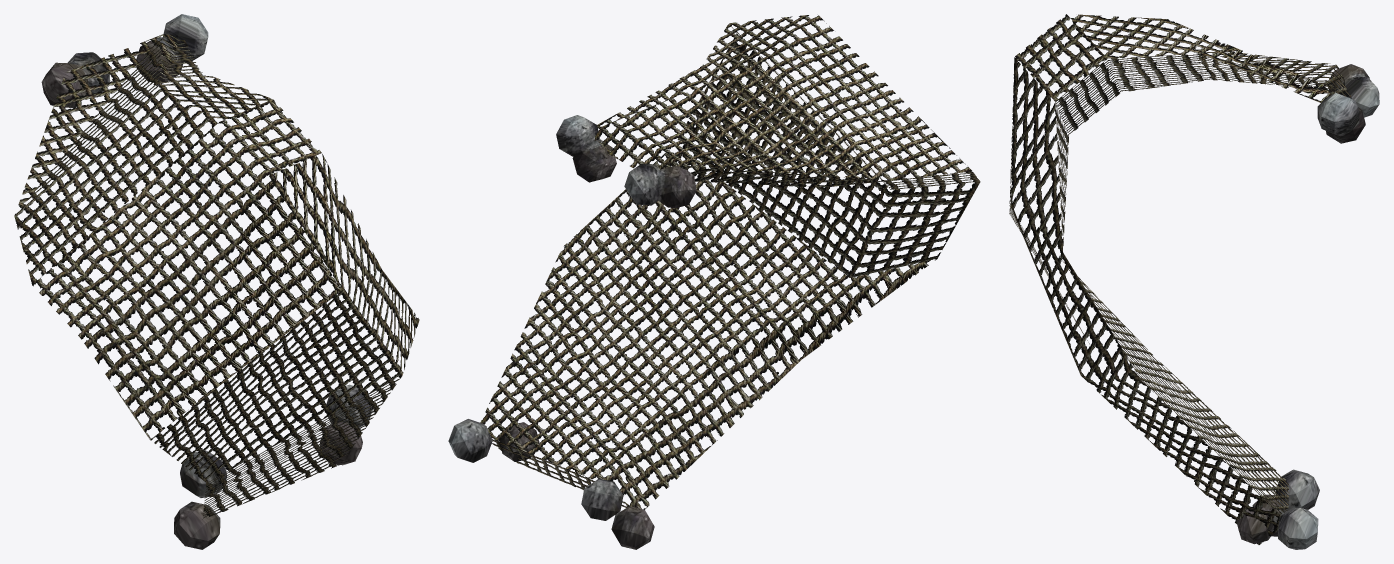
File: STATIC_SIECI.glb
3 views of the same model, side by side, from view 1: azimuth 30°, elevation 25°; view 2: azimuth 150°, elevation 25°; view 3: azimuth 270°, elevation 25° (orthographic). The views are drawn at different scales.
Parts seen in each view (by area): view 1: STATIC_SIECI; view 2: STATIC_SIECI; view 3: STATIC_SIECI.
Part boxes in pixels (x1=…): STATIC_SIECI: x1=14, y1=14, x2=419, y2=549; STATIC_SIECI: x1=448, y1=15, x2=980, y2=549; STATIC_SIECI: x1=1009, y1=14, x2=1379, y2=549.
Size of the model in its own units: 0.4061 by 0.4506 by 0.3144.
Materials: 2 (2 with a texture image).
